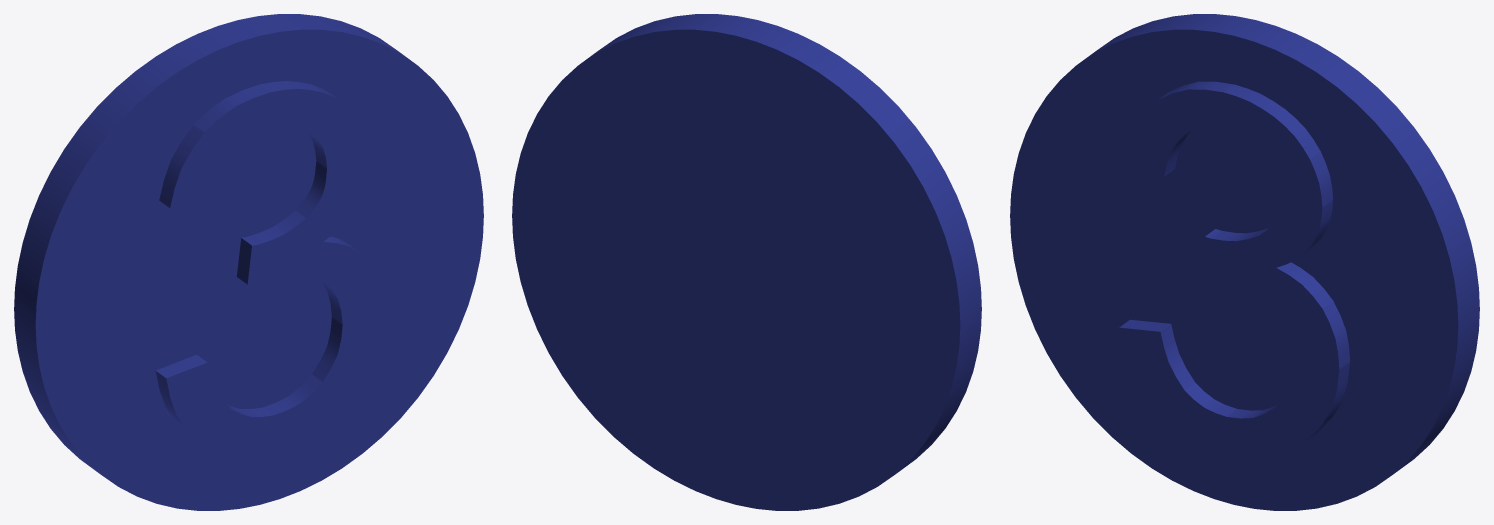
The model's file is disk3.fbx.
3 renders of one model, left to right at view 1: azimuth 30°, elevation 25°; view 2: azimuth 150°, elevation 25°; view 3: azimuth 330°, elevation 25°, orthographic.
Parts seen in each view (by area): view 1: Body1; view 2: Body1; view 3: Body1.
Part boxes in pixels (x1,y1,x2,y2): Body1: [14, 14, 483, 510]; Body1: [512, 14, 981, 510]; Body1: [1010, 14, 1479, 510].
Size of the model in its own units: 1200 by 1200 by 150.
